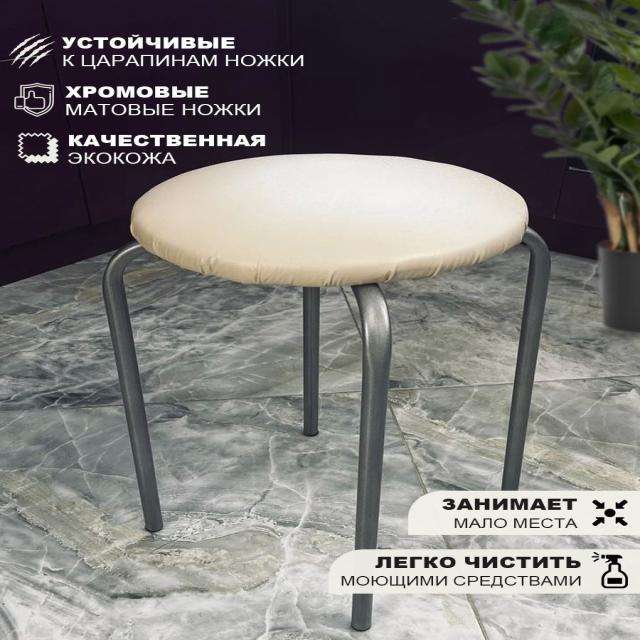chair: (96, 150, 556, 634)
